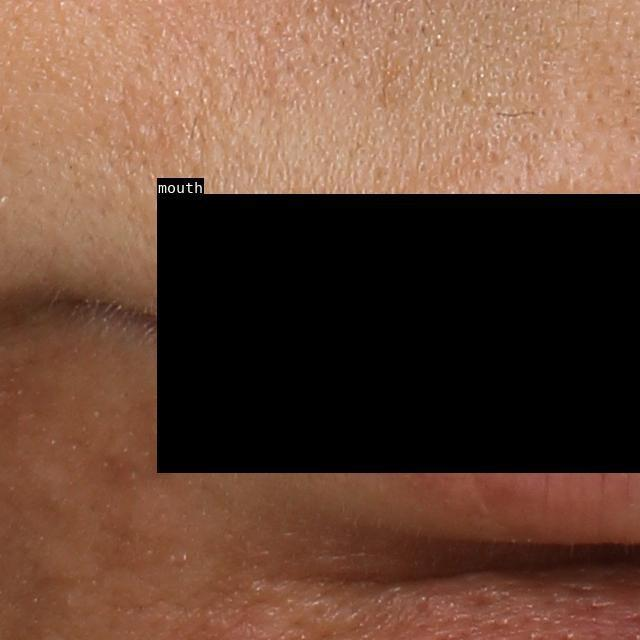hypertrophic_scar: (91, 483, 186, 555)
